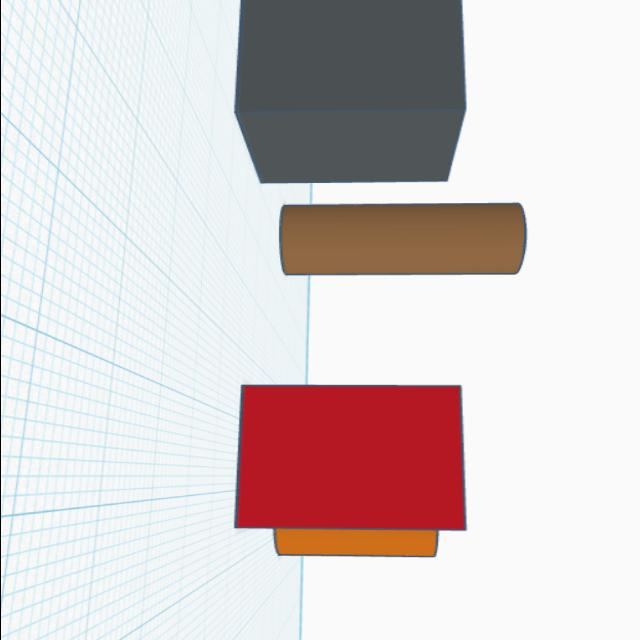cube: (229, 0, 470, 187), (230, 382, 469, 532)
